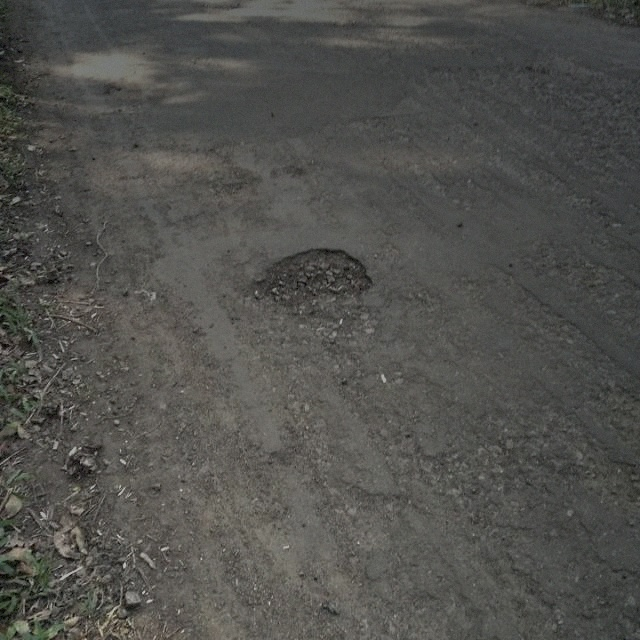pothole: (242, 244, 375, 314)
